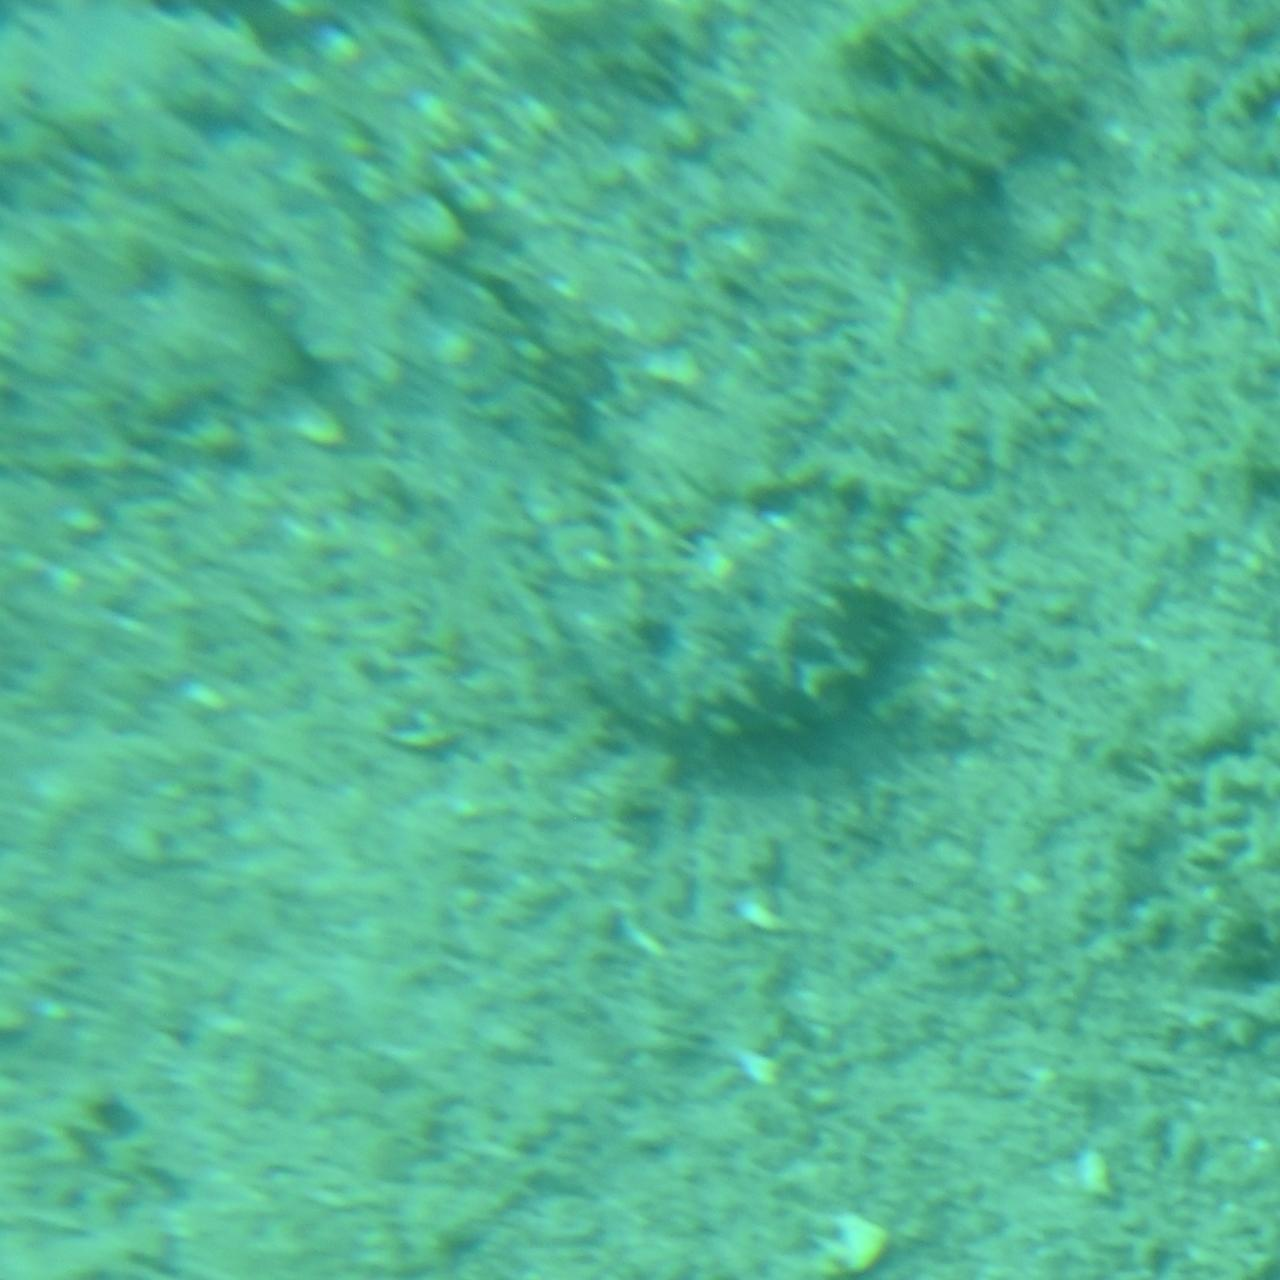Holothuria tubulosa: (0, 0, 954, 778)
